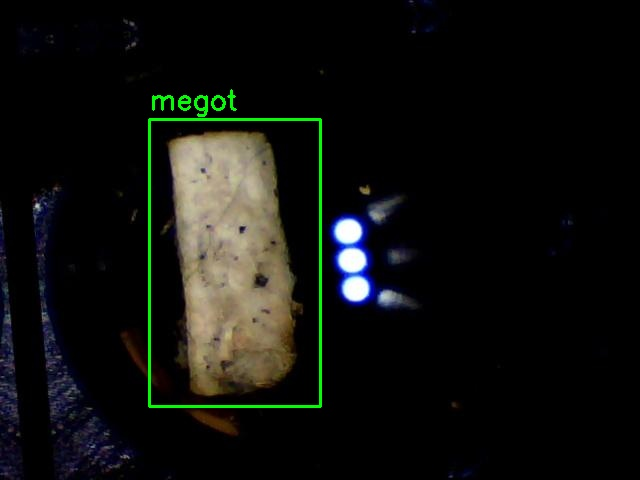megot: (149, 119, 320, 406)
